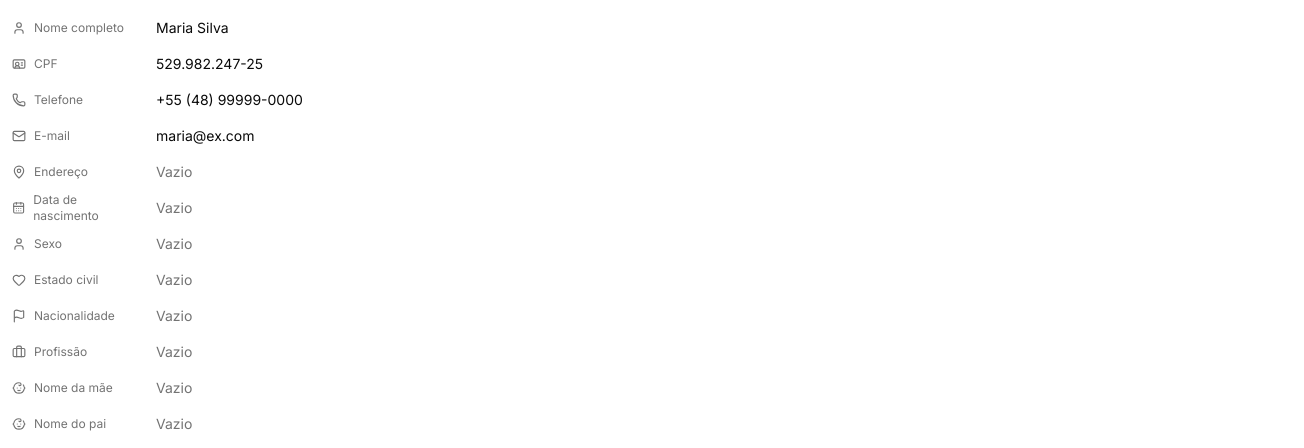
ClienteDados › abrir um campo fecha o que estava aberto
Click the button with aria-label "Editar Nome completo". click: (192, 28)
box: [148, 12, 1292, 44]
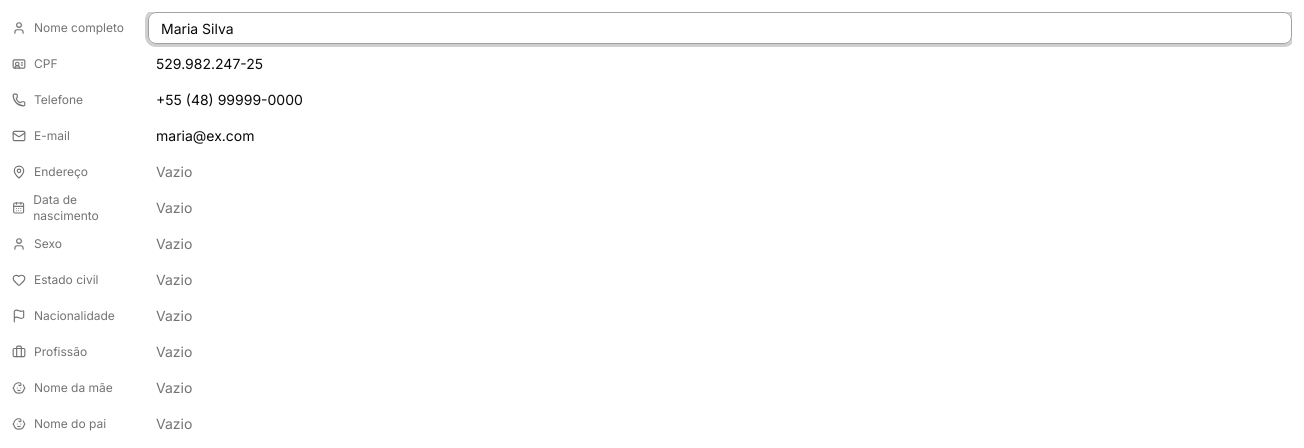
Expected: the field labelled "Nome completo" holds "Maria Silva", [148, 12, 1292, 44]
Click the button named "Editar Telefone". click: (229, 100)
box: [148, 84, 1292, 116]
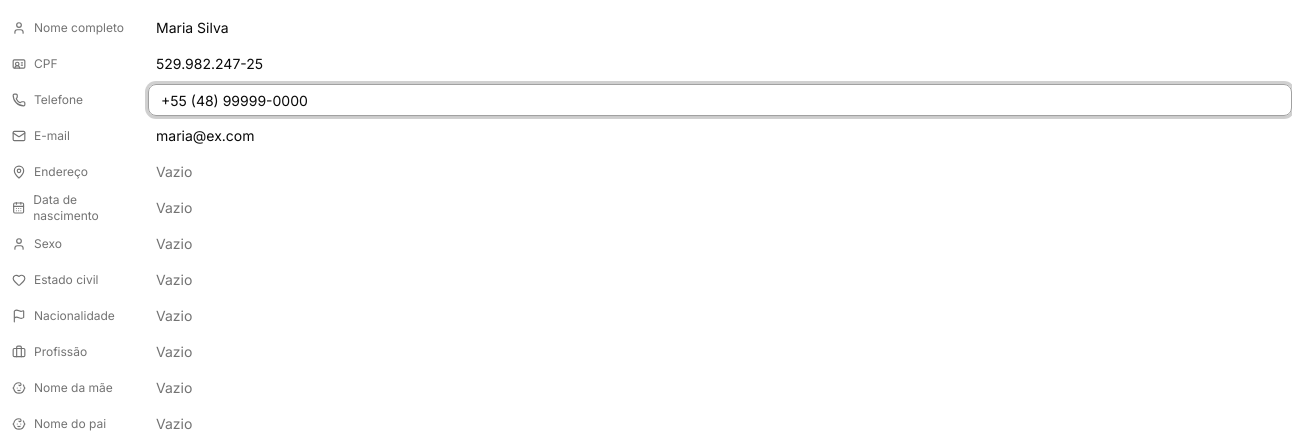
Expected: the field labelled "Telefone" is shown, [148, 84, 1292, 116]
Expected: the button with aria-label "Editar Nome completo" is shown, [148, 12, 1292, 44]
